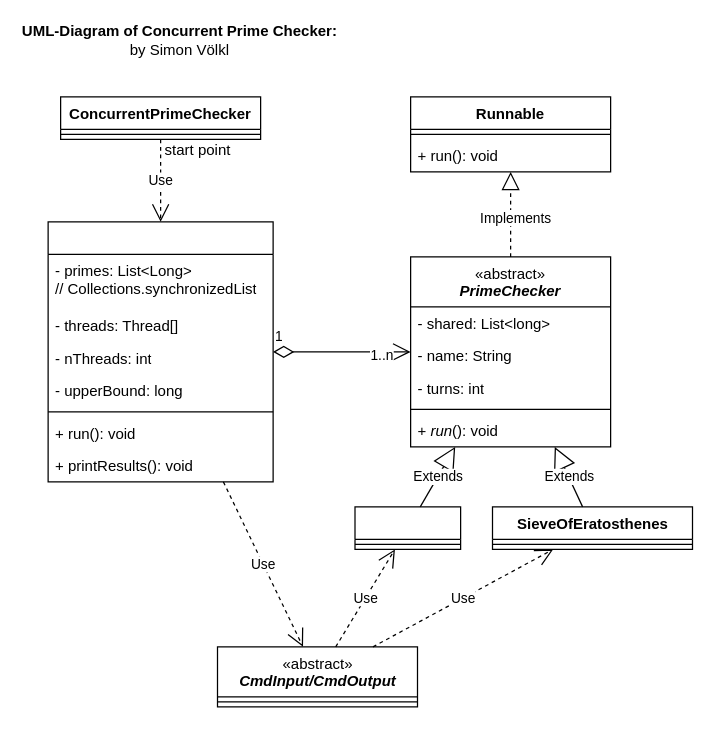
This 714x729 diagram has some shape labels left out. The box of each missing label's shape, as (x1, y1, x2, y2) in pixels:
ConcurrentRunner: (47, 221, 273, 482)
TrialChecker: (354, 506, 461, 549)
